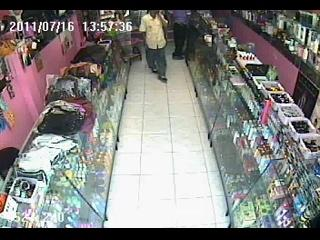Normal: (138, 11, 169, 82), (170, 10, 192, 60)
